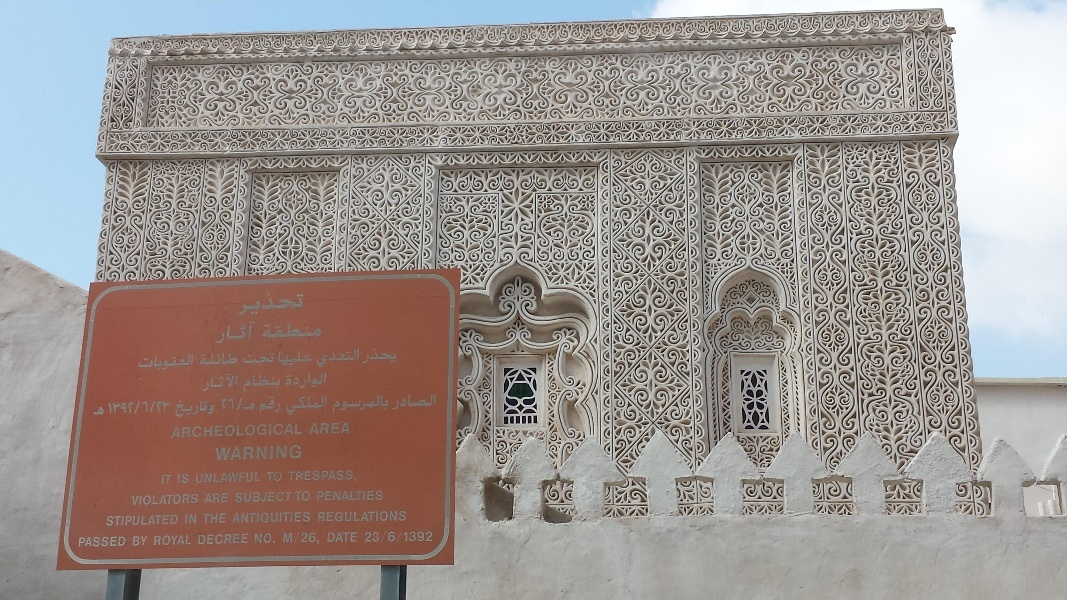text: (225, 319, 240, 345), (241, 292, 256, 317), (257, 292, 272, 317), (273, 292, 288, 317), (289, 292, 304, 317), (241, 319, 255, 345), (321, 348, 336, 369), (337, 348, 352, 369), (289, 396, 304, 417), (305, 396, 320, 417), (337, 395, 352, 415), (353, 395, 368, 415), (369, 395, 384, 415), (209, 373, 224, 392), (177, 400, 192, 419), (193, 400, 208, 419), (257, 375, 272, 393), (289, 371, 304, 389), (305, 371, 320, 389), (401, 393, 416, 411), (417, 393, 432, 411), (225, 373, 239, 392), (369, 348, 384, 365), (145, 354, 160, 371), (161, 354, 176, 371), (177, 354, 192, 371), (225, 445, 240, 461), (241, 445, 256, 461), (257, 445, 272, 461), (273, 445, 288, 461), (289, 351, 304, 367), (177, 422, 192, 438), (193, 422, 208, 438), (209, 422, 224, 438), (225, 422, 240, 438), (241, 422, 256, 438), (257, 422, 272, 438), (273, 422, 288, 438), (289, 422, 304, 438), (273, 323, 288, 338), (289, 323, 304, 338), (305, 323, 320, 338), (225, 396, 240, 411), (289, 445, 303, 461), (244, 375, 256, 393), (209, 352, 224, 366), (241, 396, 255, 411), (385, 348, 397, 365), (113, 402, 128, 415), (129, 402, 144, 415), (145, 402, 160, 415), (209, 472, 224, 485), (225, 472, 240, 485), (241, 472, 256, 485), (241, 491, 256, 504), (257, 491, 272, 504), (273, 491, 288, 504), (113, 514, 128, 527), (129, 514, 144, 527), (145, 514, 160, 527), (161, 514, 176, 527), (209, 533, 224, 546), (225, 533, 240, 546), (289, 532, 304, 545), (305, 532, 320, 545), (177, 534, 193, 546), (225, 352, 238, 366), (161, 474, 176, 486), (262, 396, 272, 414), (321, 423, 336, 435), (289, 471, 304, 483), (305, 471, 320, 483), (321, 471, 336, 483), (337, 471, 352, 483), (145, 493, 160, 505), (161, 493, 176, 505), (177, 493, 192, 505), (209, 513, 224, 525), (241, 511, 256, 523), (257, 511, 272, 523), (273, 511, 288, 523), (289, 511, 304, 523), (81, 536, 96, 548), (97, 536, 112, 548), (161, 534, 176, 546), (417, 531, 433, 542), (337, 423, 351, 435), (113, 536, 127, 548), (257, 353, 272, 364), (209, 492, 224, 503), (321, 491, 336, 502), (337, 491, 352, 502), (353, 491, 368, 502), (369, 491, 384, 502), (321, 511, 336, 522), (337, 511, 352, 522), (353, 511, 368, 522), (369, 511, 384, 522), (385, 511, 400, 522), (257, 533, 272, 544), (337, 532, 352, 543), (369, 531, 384, 542), (385, 531, 400, 542), (401, 531, 416, 542), (273, 396, 282, 414), (196, 472, 208, 485), (178, 473, 192, 484), (353, 348, 360, 369), (321, 396, 328, 417), (279, 351, 288, 367), (273, 375, 281, 393), (132, 493, 144, 505), (244, 353, 256, 364), (133, 535, 144, 547), (198, 533, 208, 546), (216, 445, 224, 461), (305, 351, 313, 367), (273, 472, 284, 483), (161, 402, 170, 415), (241, 533, 250, 546), (321, 371, 327, 389), (265, 323, 272, 338), (295, 492, 304, 503), (327, 532, 336, 543), (201, 352, 208, 366), (312, 423, 320, 435), (209, 400, 214, 419), (433, 393, 438, 411), (97, 406, 105, 417), (139, 354, 144, 371), (193, 493, 200, 505), (233, 511, 240, 523), (305, 511, 312, 523), (385, 395, 389, 415), (221, 319, 224, 345), (305, 492, 312, 503), (396, 393, 400, 411), (266, 472, 272, 483), (186, 514, 192, 525), (401, 511, 407, 522), (257, 472, 262, 485), (353, 471, 358, 483), (155, 534, 160, 546), (353, 532, 358, 543), (236, 491, 240, 504), (289, 491, 293, 504), (108, 514, 112, 527), (284, 532, 288, 545), (173, 422, 176, 438), (204, 513, 208, 525), (321, 323, 324, 338), (225, 492, 229, 503), (193, 514, 197, 525), (109, 402, 112, 415), (174, 400, 176, 419), (286, 371, 288, 389), (145, 535, 148, 547), (205, 492, 208, 503), (273, 533, 276, 544), (365, 531, 368, 542), (222, 396, 224, 411), (177, 514, 179, 527), (94, 406, 96, 417), (318, 491, 320, 502), (318, 511, 320, 522), (319, 348, 320, 369), (335, 395, 336, 415), (207, 373, 208, 392), (367, 348, 368, 365), (193, 354, 194, 371), (225, 513, 226, 525), (273, 353, 274, 364), (255, 533, 256, 544)
